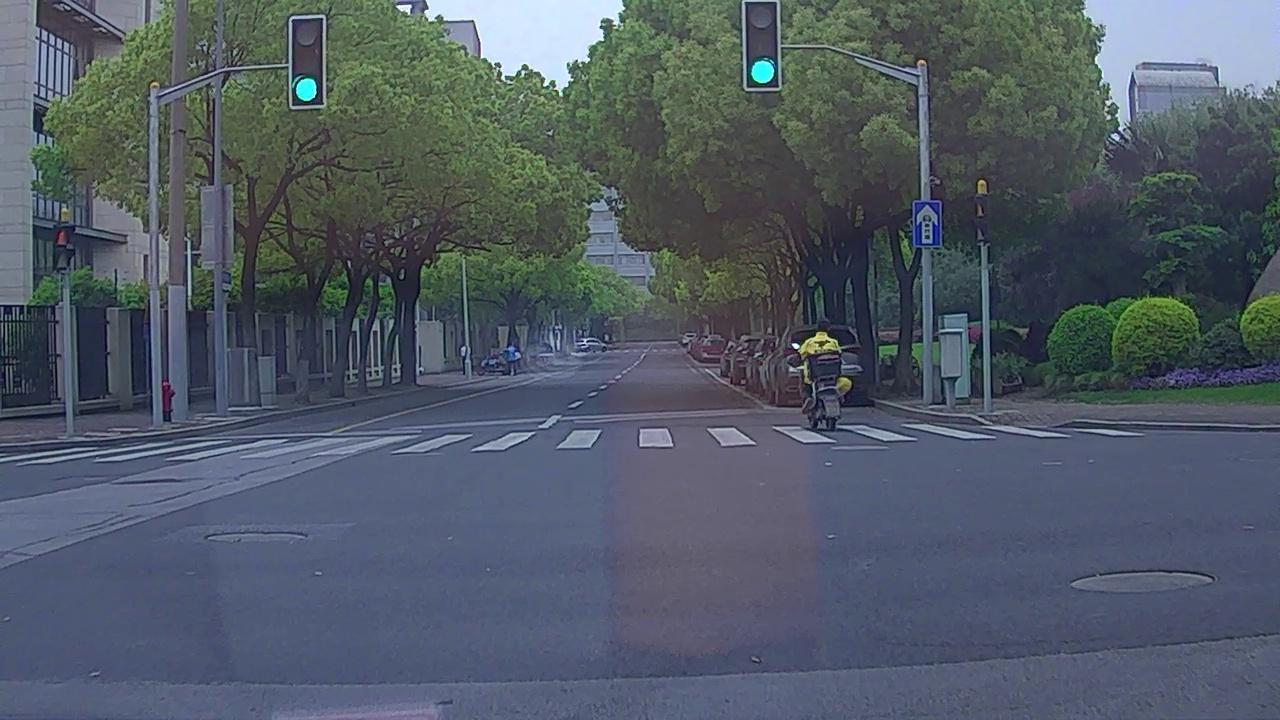traffic_light: (743, 1, 778, 89), (293, 14, 325, 104)
